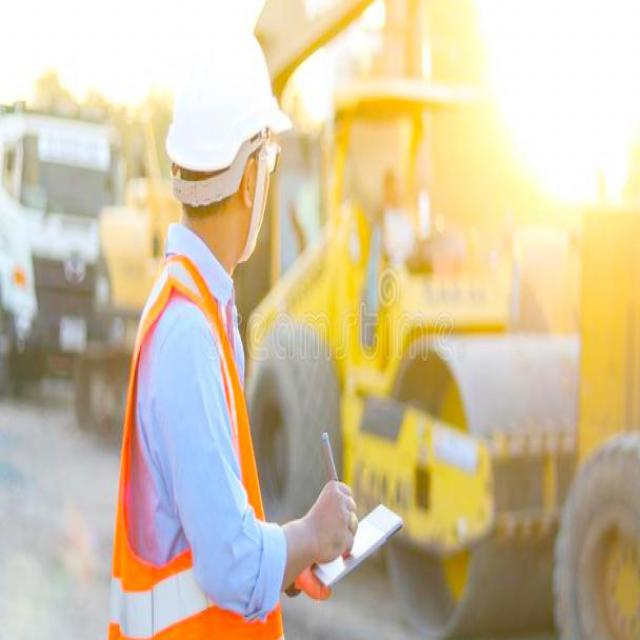helmet: (159, 0, 285, 279)
vest: (100, 248, 292, 638)
